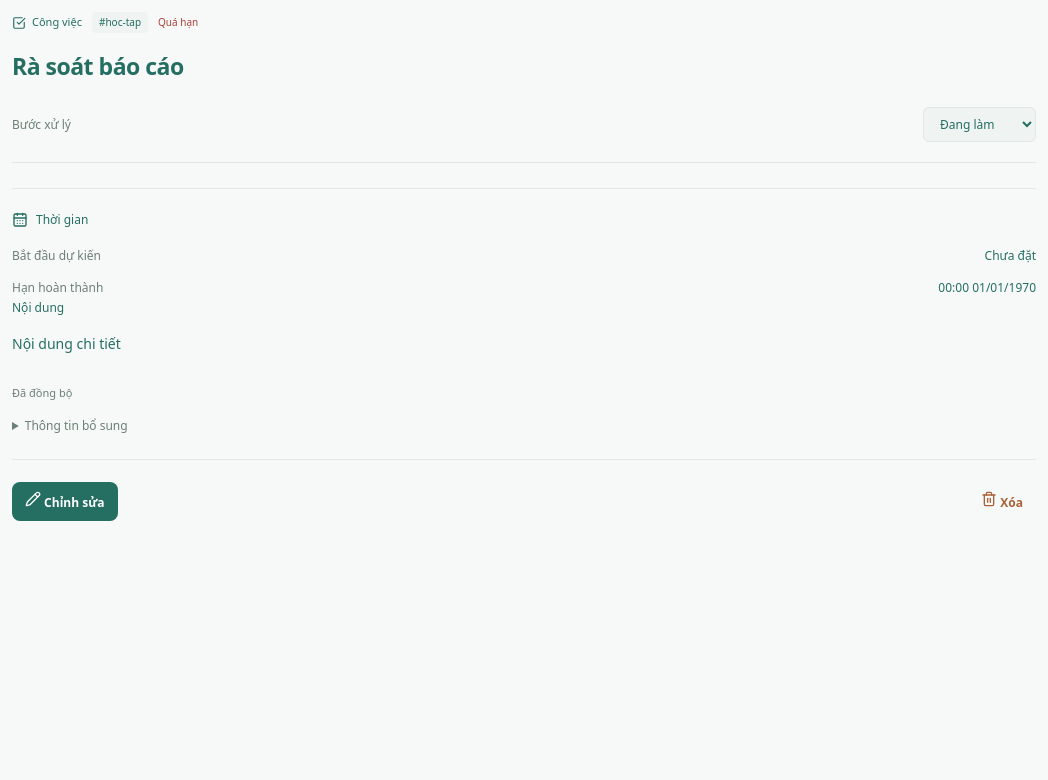
Test case: TaskDetails › keeps a failed delete open and lets the user retry
Click the button "Xóa". click: [1002, 502]
box: [968, 482, 1036, 521]
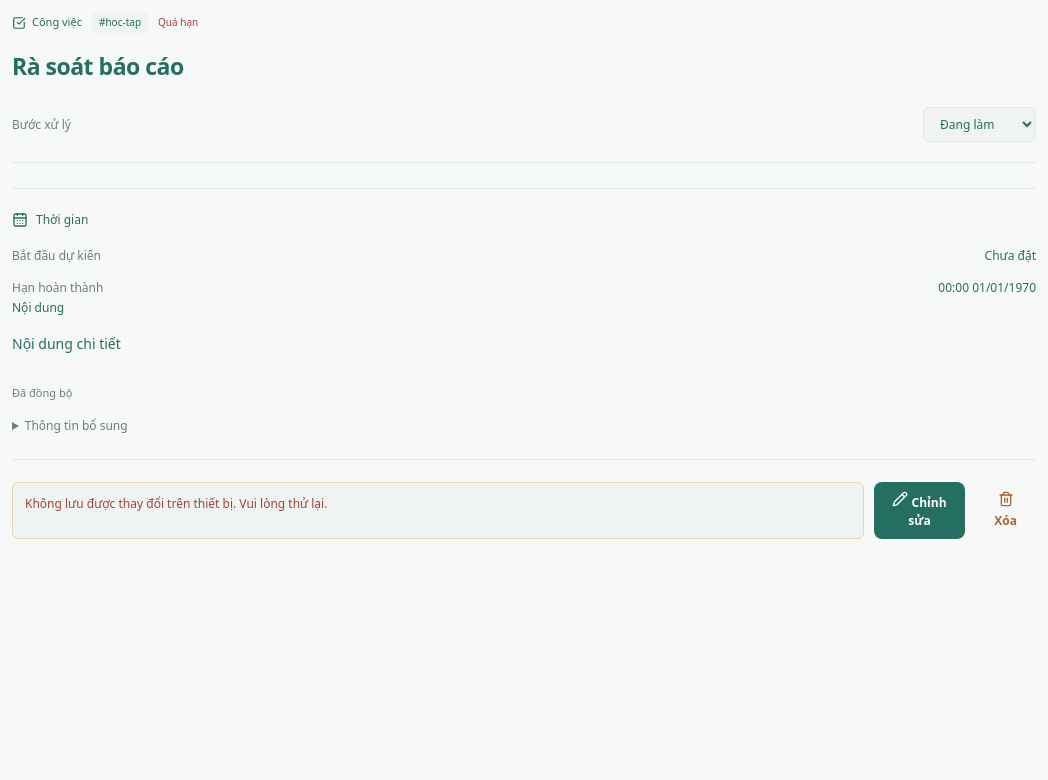
Check: the text "Nội dung chi tiết" is shown, box [12, 334, 121, 353]
Check: the message "Không lưu được thay đổi trên thiết bị. Vui lòng thử lại." is shown, box [12, 482, 864, 539]
Click the button "Xóa". click: [1006, 511]
box: [975, 482, 1036, 539]
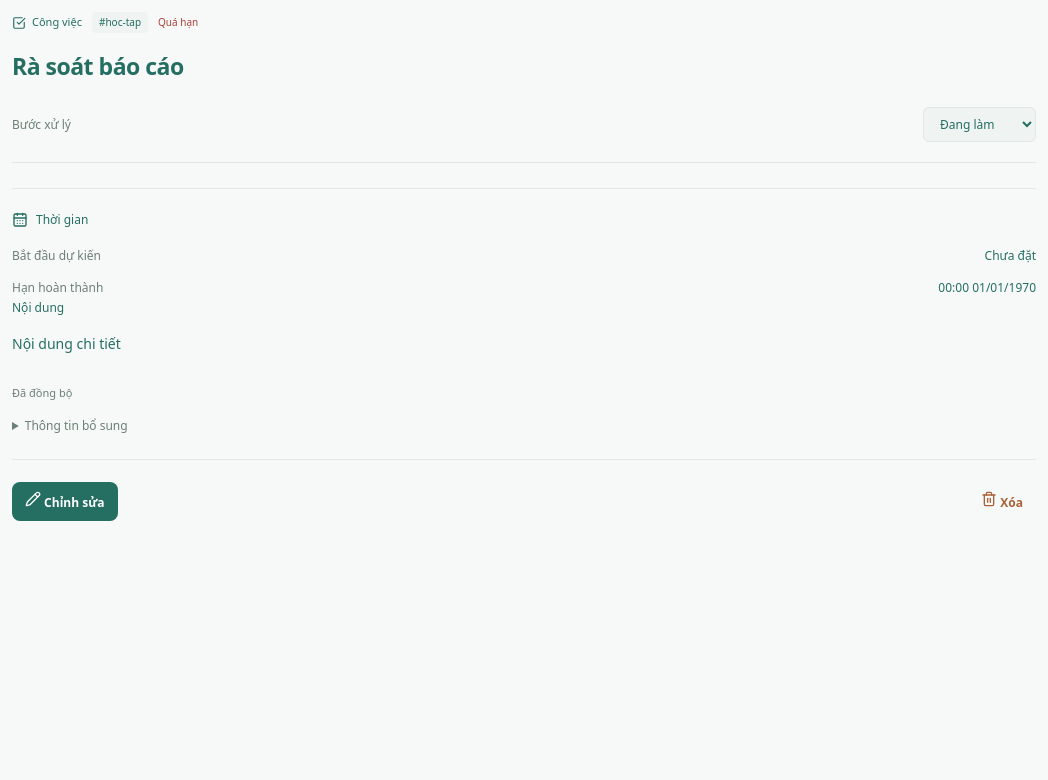
Check: the message "Không lưu được thay đổi trên thiết bị. Vui lòng thử lại." is gone
